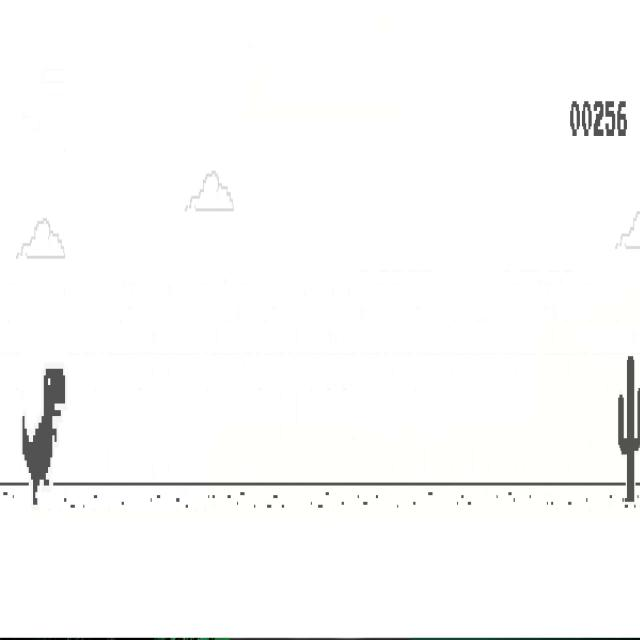cacto: (618, 354, 640, 502)
dino: (22, 368, 65, 506)
